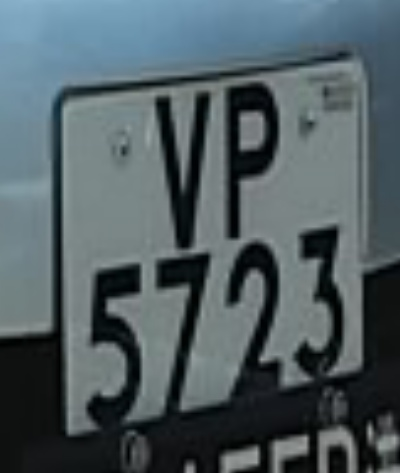2: (218, 237, 296, 402)
3: (285, 214, 349, 386)
5: (75, 252, 152, 438)
7: (143, 241, 218, 428)
P: (213, 60, 289, 243)
V: (134, 68, 224, 251)
